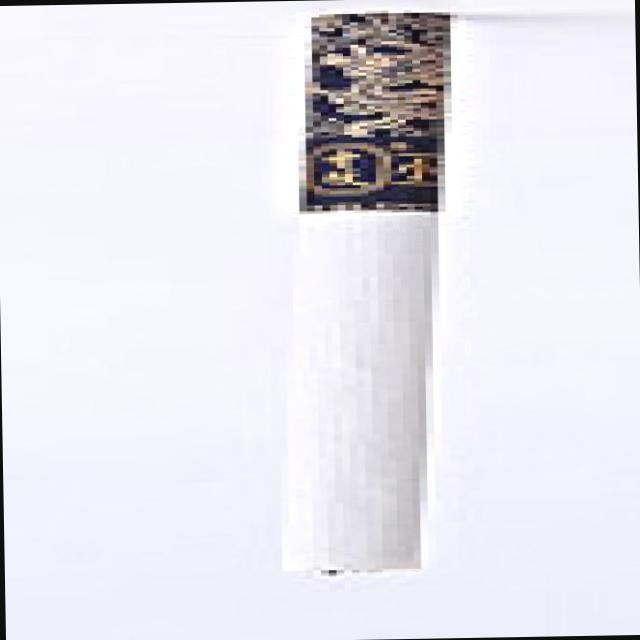cigarette: (302, 15, 460, 581)
